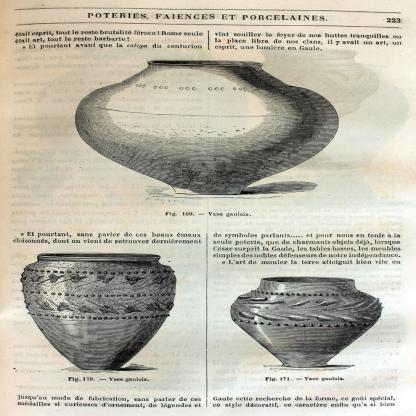vase: (74, 58, 332, 197), (24, 254, 176, 372), (226, 274, 380, 365)
